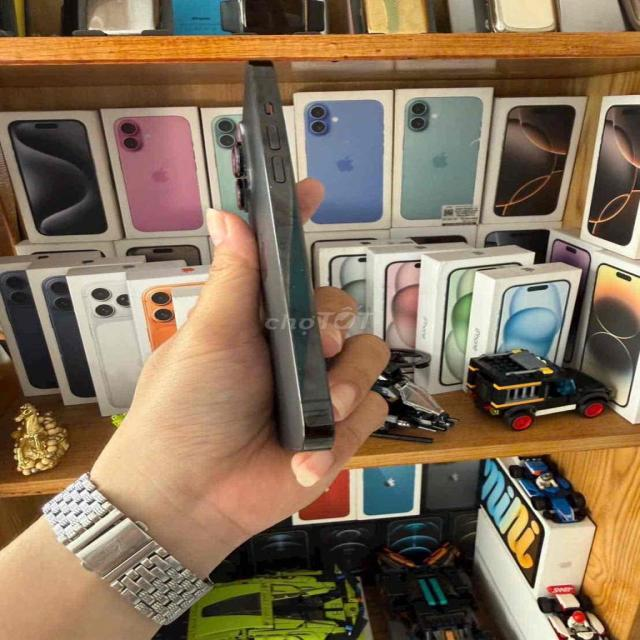gen_14: (225, 48, 351, 460)
